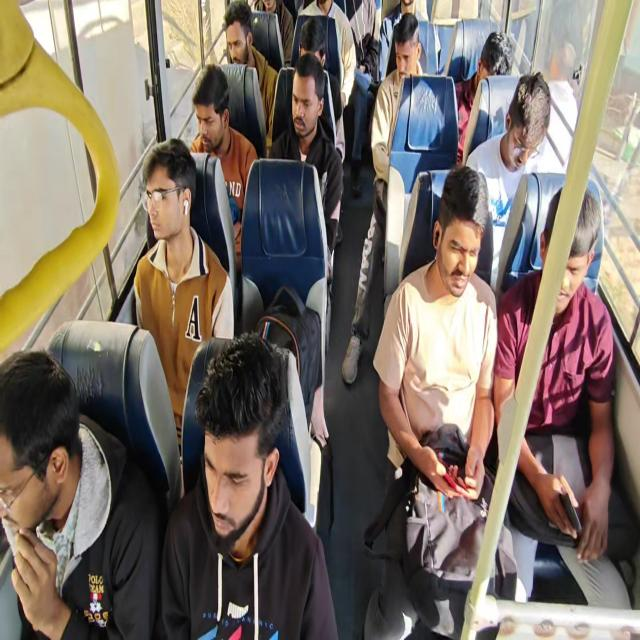person: (363, 164, 503, 638), (493, 182, 636, 610), (160, 331, 338, 638), (0, 349, 161, 639), (133, 136, 234, 458), (341, 12, 424, 384), (465, 70, 551, 292), (268, 52, 344, 286), (188, 64, 258, 274), (222, 0, 278, 144), (454, 30, 514, 164), (344, 0, 379, 197), (297, 16, 345, 159), (377, 0, 427, 81), (250, 0, 294, 66)
